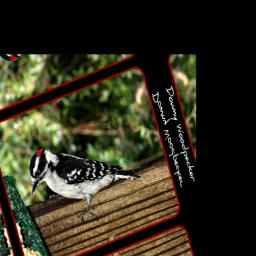Woodpecker: (21, 115, 147, 246)
